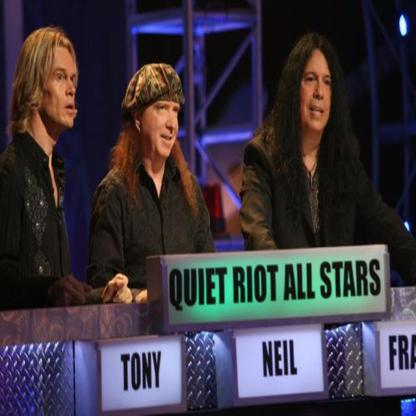face: (43, 41, 79, 129), (300, 50, 333, 129), (144, 86, 179, 159)
